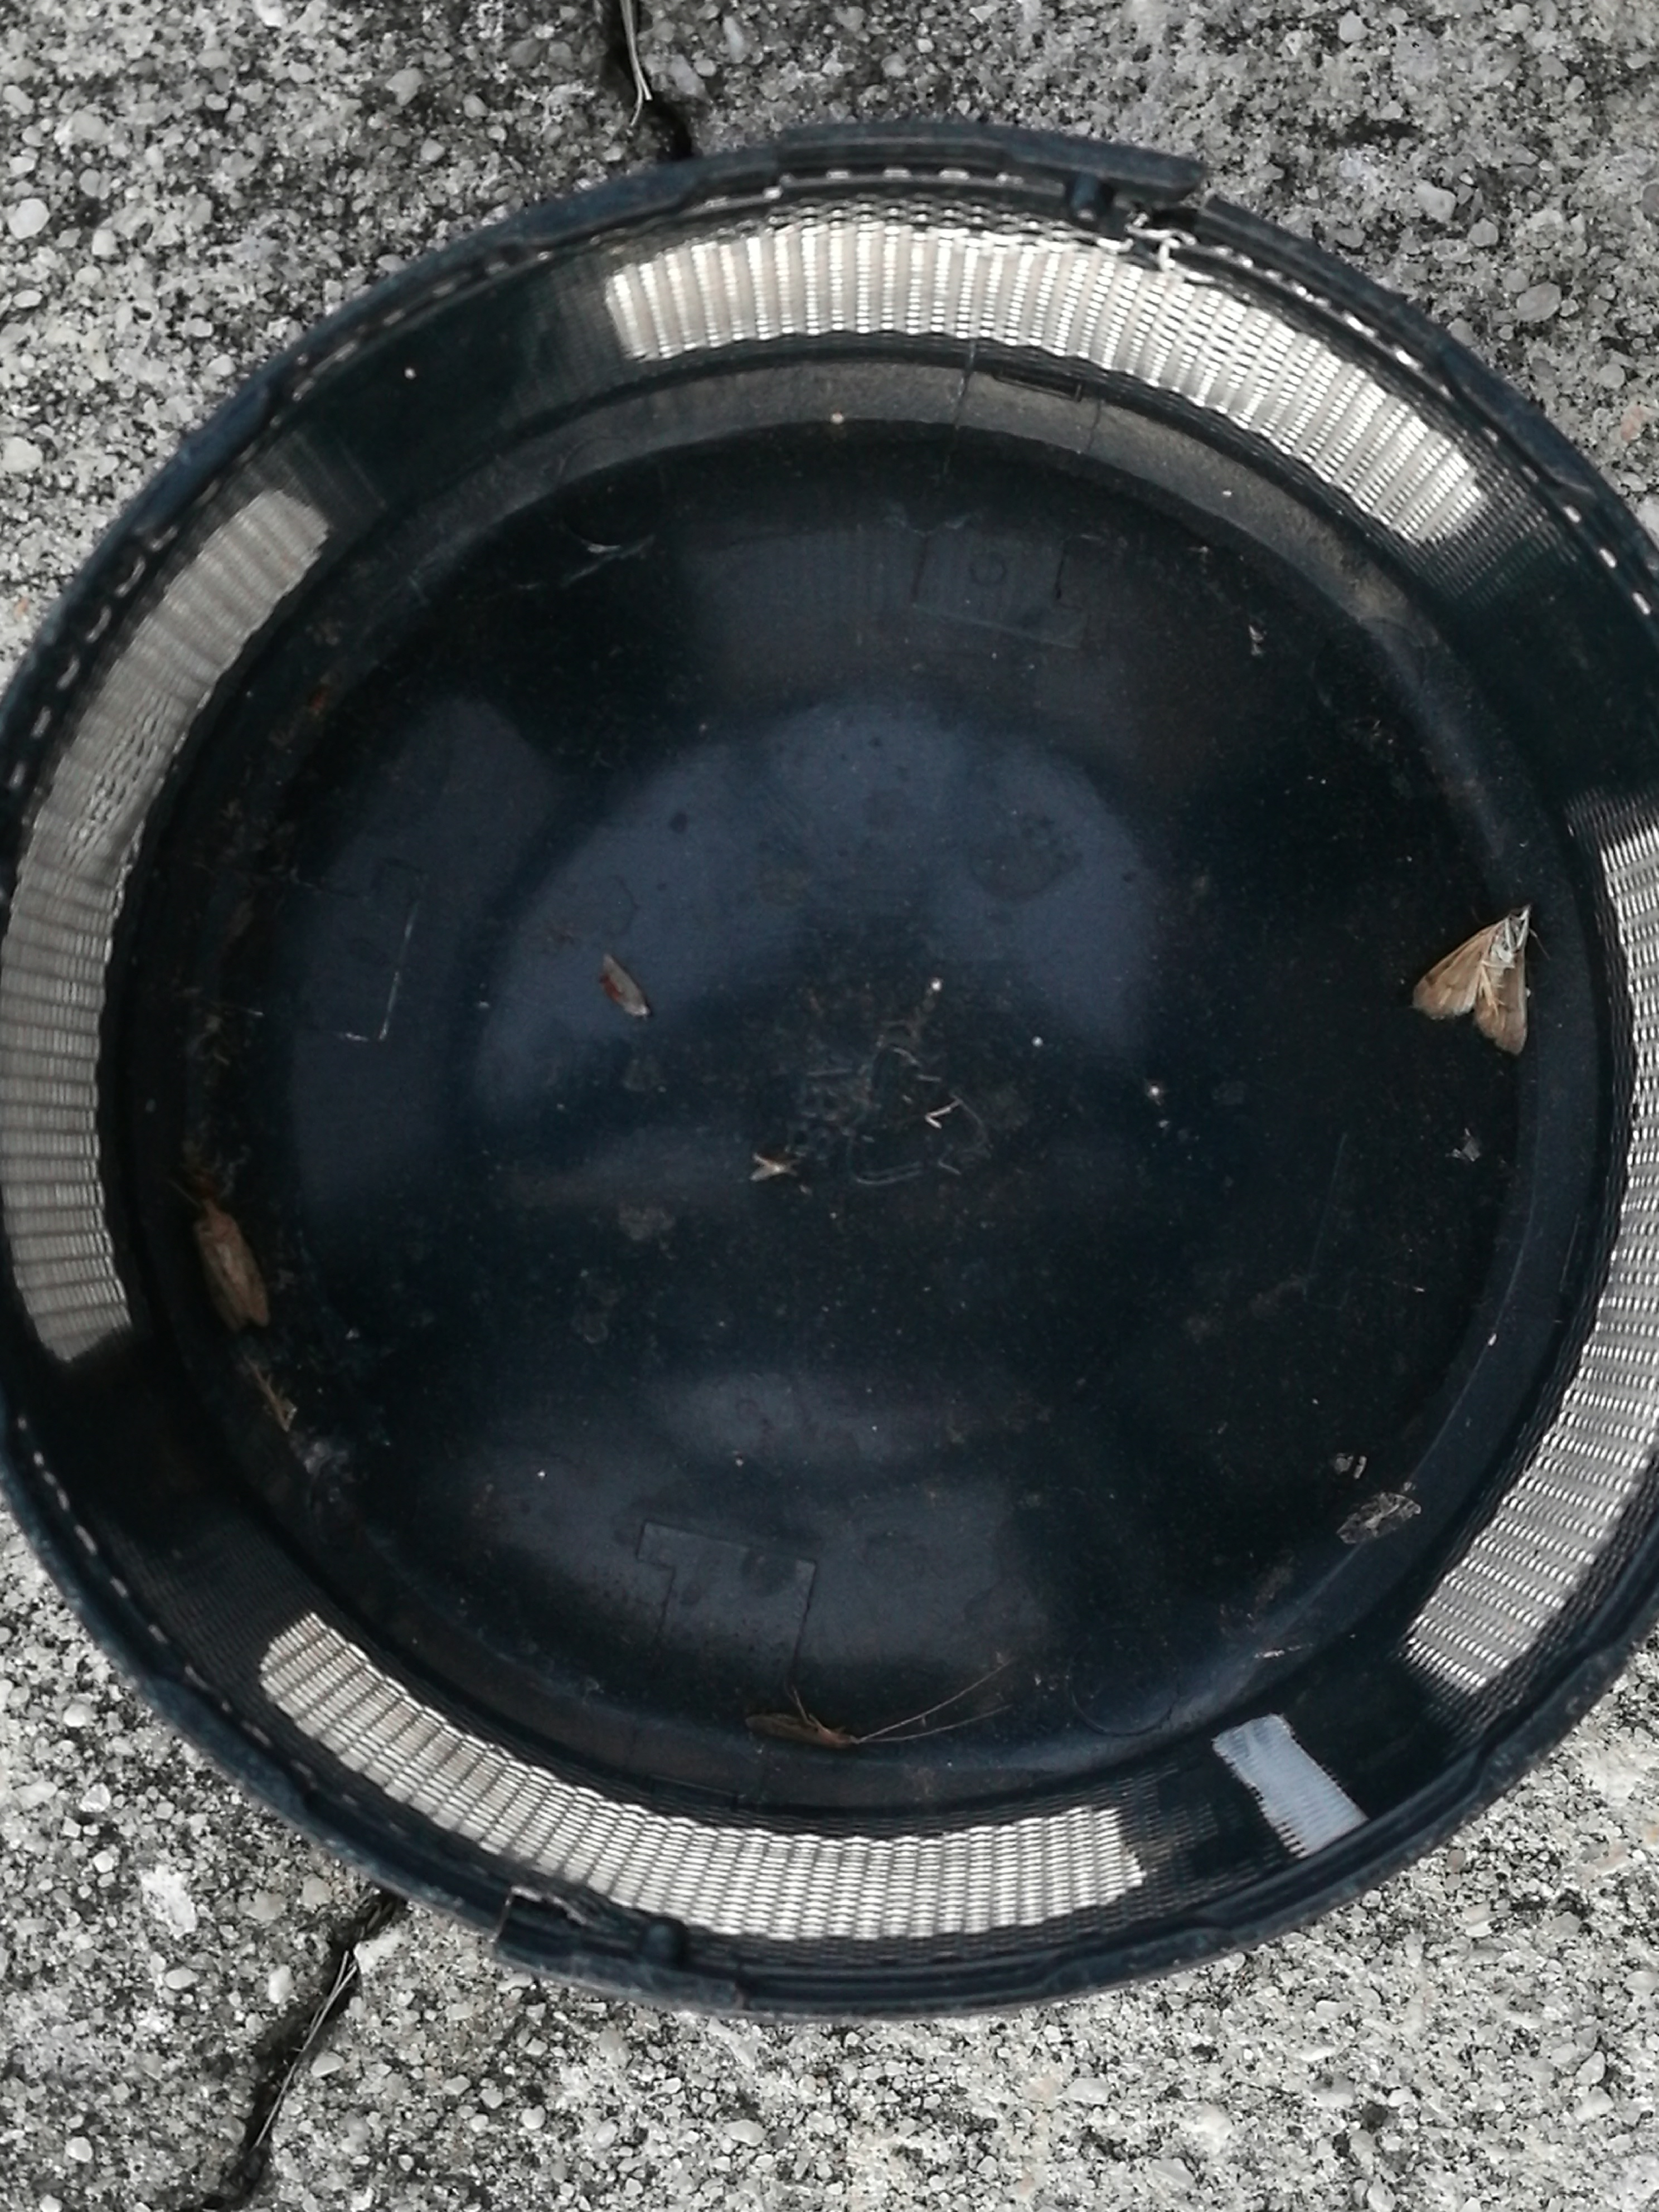mosquito: (744, 1717, 857, 1750)
moth: (1415, 900, 1530, 1049), (195, 1204, 261, 1329)
